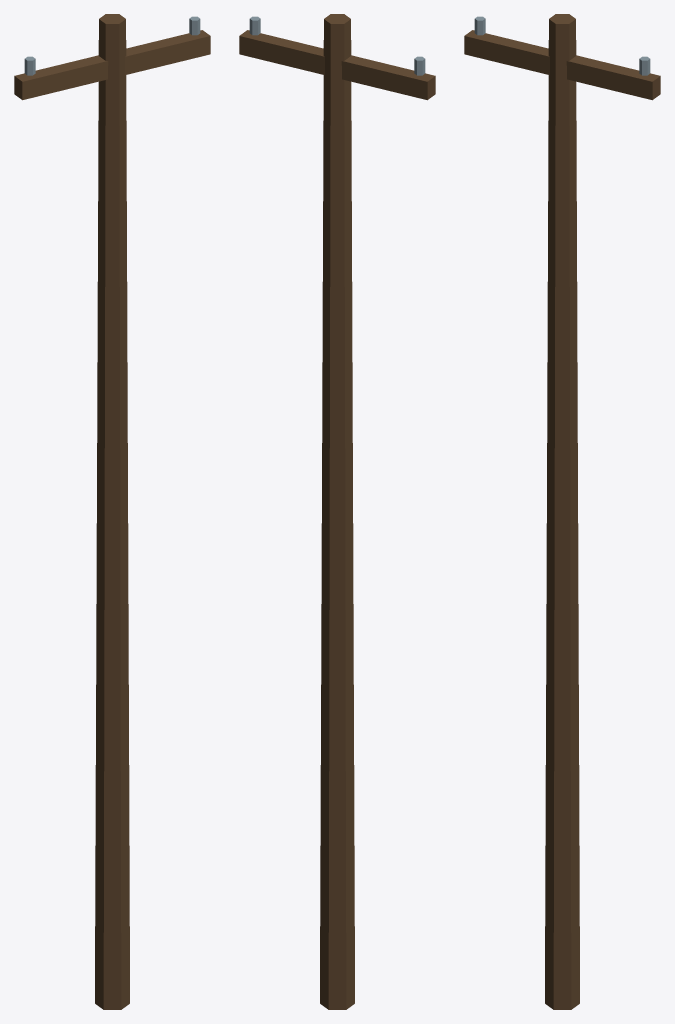
Rendered from poste_madeira.glb.
The picture shows the model from 3 angles, left to right: view 1: azimuth 30°, elevation 25°; view 2: azimuth 150°, elevation 25°; view 3: azimuth 330°, elevation 25°; orthographic projection.
Visible parts, largest first — view 1: poste_madeira; view 2: poste_madeira; view 3: poste_madeira.
Boxes of the visible parts, box(x1,y1,x2,y2) form: poste_madeira: box(14, 14, 210, 1009); poste_madeira: box(239, 14, 435, 1009); poste_madeira: box(464, 14, 660, 1009).
Size of the model in its own units: 1.6 by 8 by 0.26.
